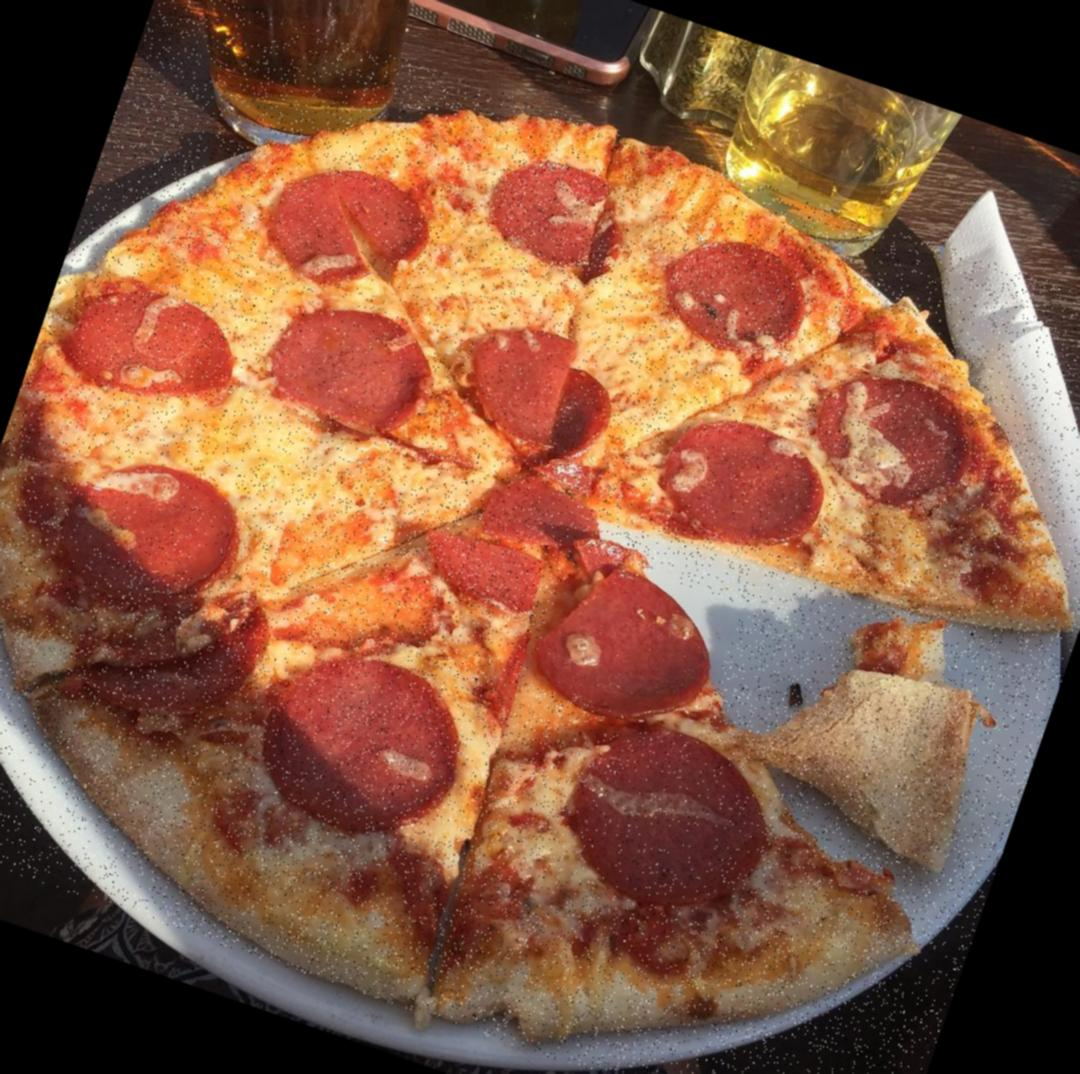Pepperoni: (545, 708, 786, 935), (252, 638, 494, 858), (65, 552, 280, 753), (526, 546, 742, 741), (50, 443, 250, 625), (640, 400, 840, 562), (251, 285, 446, 449), (442, 311, 628, 477), (801, 362, 989, 522), (251, 147, 437, 307), (54, 271, 248, 424), (640, 220, 825, 378), (476, 146, 638, 287), (397, 512, 554, 628), (484, 464, 610, 554)
Pizza: (0, 0, 1080, 1074)
